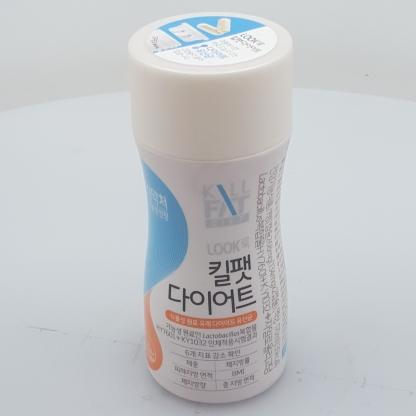------LOOK------170ML: (127, 10, 294, 405)
